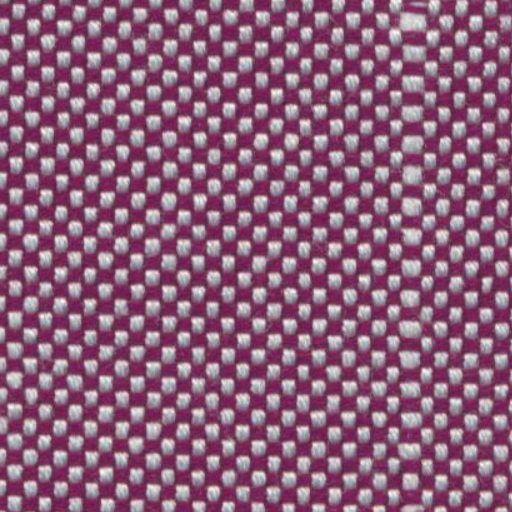DaiSha: (392, 2, 437, 502)
